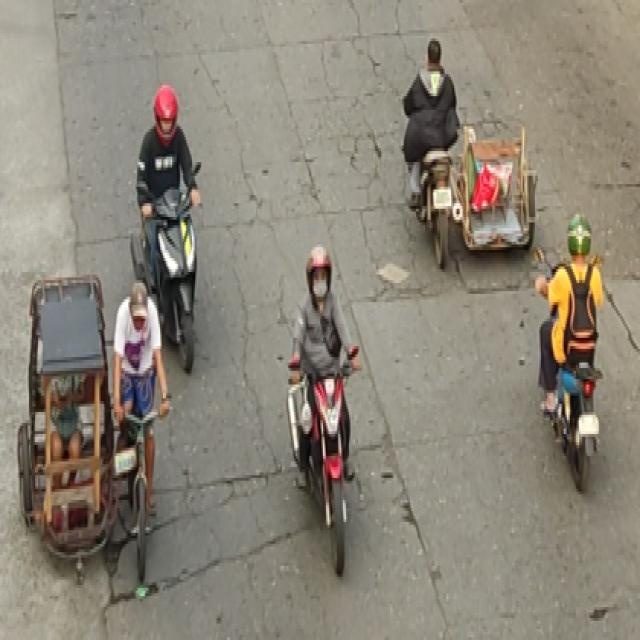Motorcycle: (289, 247, 354, 578), (130, 89, 203, 374), (537, 214, 602, 495)
